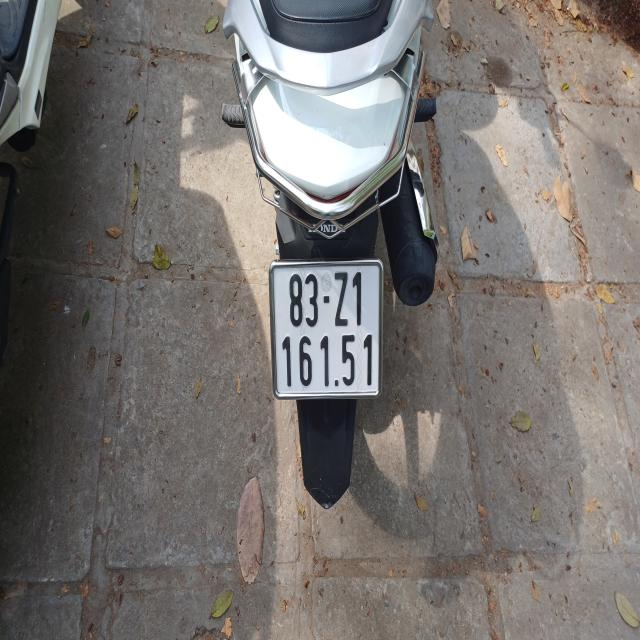1: (281, 334, 292, 389), (352, 270, 363, 324), (364, 332, 374, 388), (319, 334, 329, 387)
3: (305, 274, 318, 326)
5: (341, 332, 355, 385)
6: (299, 334, 312, 386)
8: (288, 274, 304, 328)
Z: (335, 270, 349, 328)
